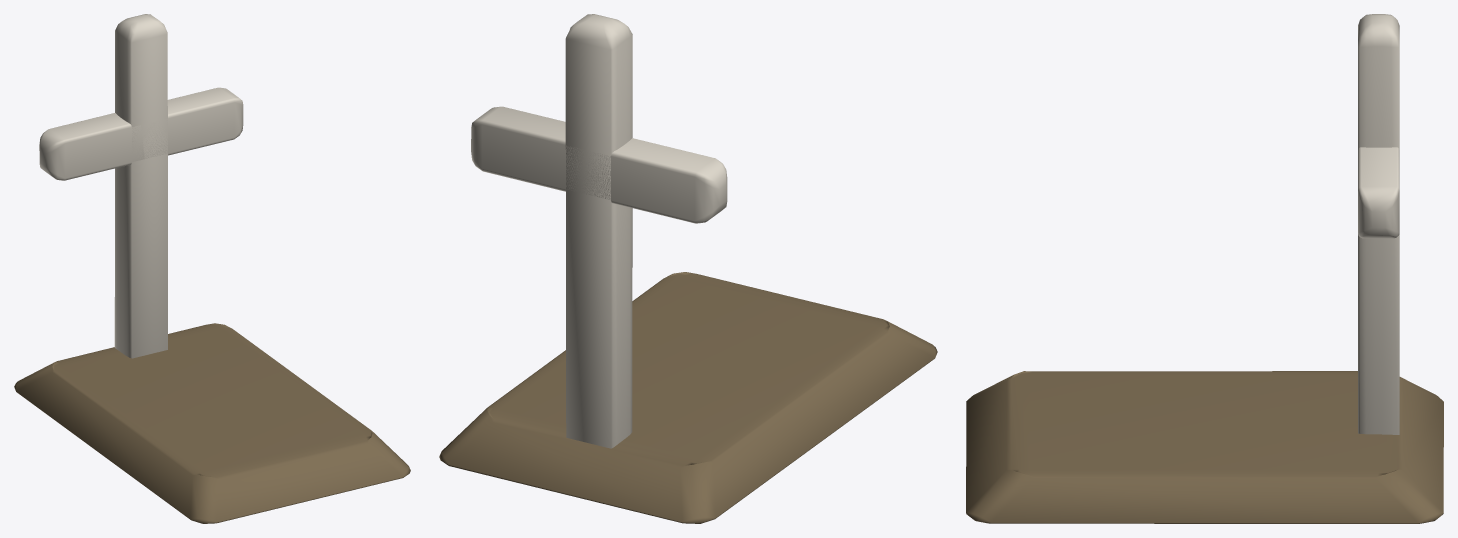
File: cross.glb
3 views of the same model, side by side, from view 1: azimuth 30°, elevation 25°; view 2: azimuth 150°, elevation 25°; view 3: azimuth 270°, elevation 25° (orthographic). The views are drawn at different scales.
Parts seen in each view (by area): view 1: cross; view 2: cross; view 3: cross.
Boxes of the visible parts, left/top/right/bottom form: cross: left=14, top=14, right=410, bottom=523; cross: left=439, top=14, right=937, bottom=523; cross: left=966, top=14, right=1443, bottom=523.
Size of the model in its own units: 0.8877 by 1.4 by 1.37.
